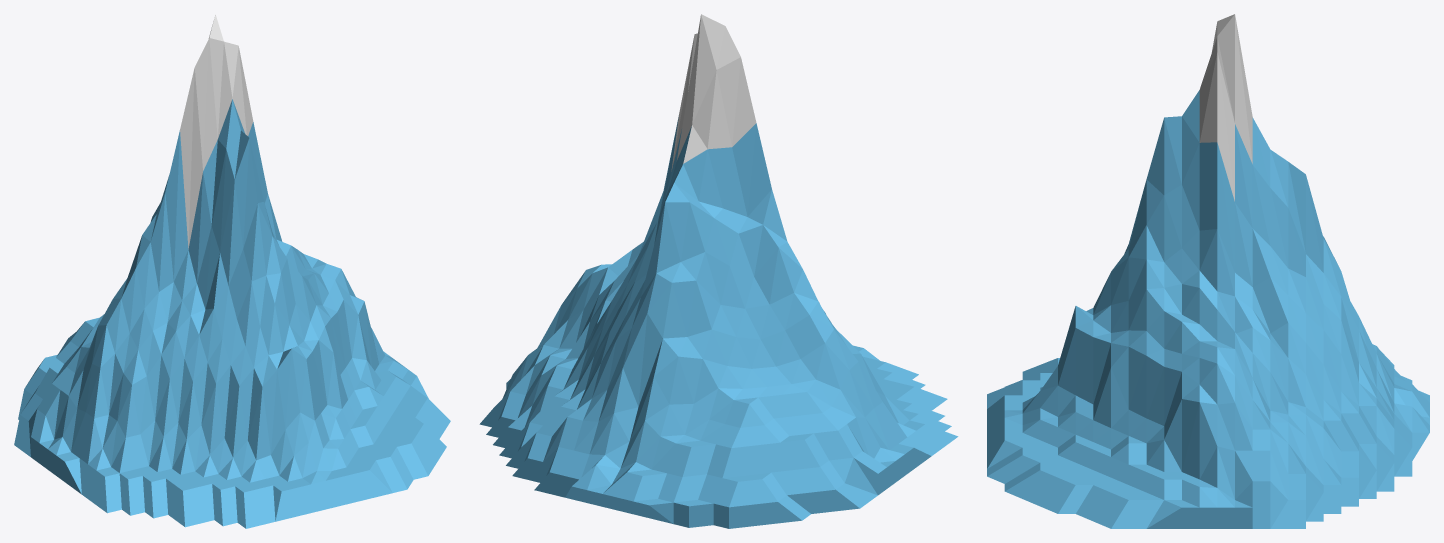
File: IceMountain2.fbx
3 renders of one model, left to right at view 1: azimuth 30°, elevation 25°; view 2: azimuth 150°, elevation 25°; view 3: azimuth 270°, elevation 25°, orthographic. The views are drawn at different scales.
Parts seen in each view (by area): view 1: Landscape; view 2: Landscape; view 3: Landscape.
Boxes of the visible parts, box(x1,y1,x2,y2) form: Landscape: box(14, 14, 450, 528); Landscape: box(479, 14, 958, 528); Landscape: box(987, 14, 1429, 528).
Size of the model in its own units: 3600 by 3973 by 3750.
